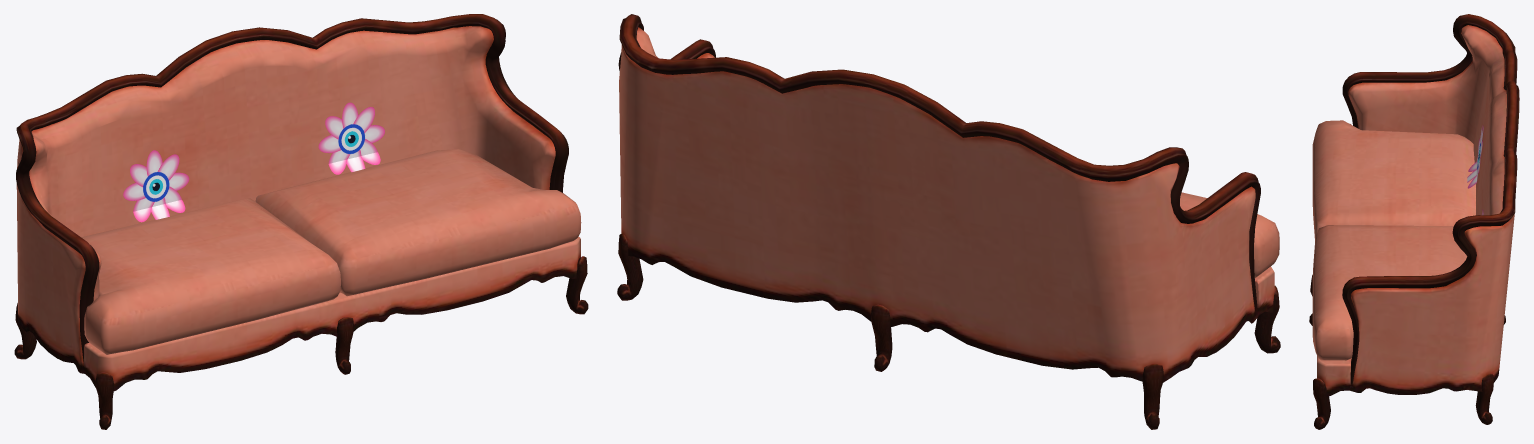
Rendered from nyb_crooklyn_sofa.glb.
The picture shows the model from 3 angles, left to right: view 1: azimuth 30°, elevation 25°; view 2: azimuth 150°, elevation 25°; view 3: azimuth 270°, elevation 25°; orthographic projection. The views are drawn at different scales.
Visible parts, largest first — view 1: Sofa_01, stk_eyeflower.png.001, stk_eyeflower.png; view 2: Sofa_01; view 3: Sofa_01, stk_eyeflower.png.
Boxes of the visible parts, bbox=[...] form: Sofa_01: bbox=[14, 14, 588, 429]; stk_eyeflower.png.001: bbox=[318, 102, 384, 174]; stk_eyeflower.png: bbox=[123, 150, 189, 222]; Sofa_01: bbox=[617, 14, 1280, 429]; Sofa_01: bbox=[1309, 14, 1519, 429]; stk_eyeflower.png: bbox=[1467, 125, 1483, 188].
Bounding box in the file's own units: 1.57 × 0.7965 × 0.658.
3 materials, 3 textured.
